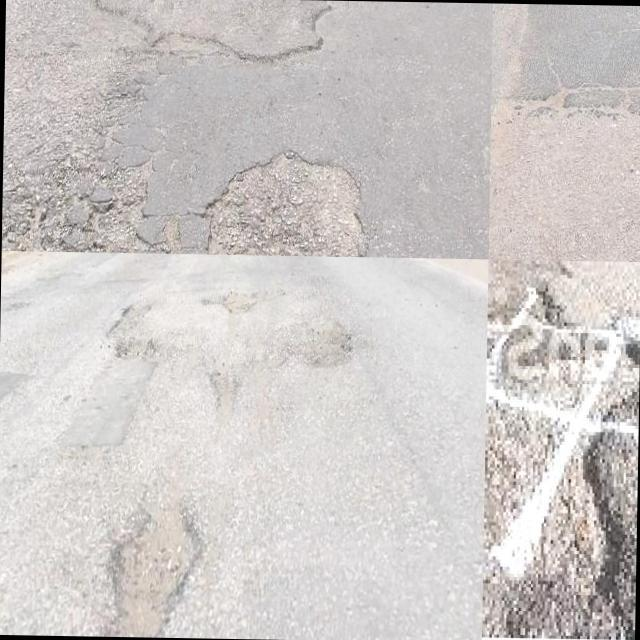Pothole: (483, 260, 639, 587), (203, 155, 371, 257), (99, 498, 206, 637), (106, 298, 158, 362), (293, 316, 353, 369), (207, 365, 243, 416), (221, 289, 255, 318)
